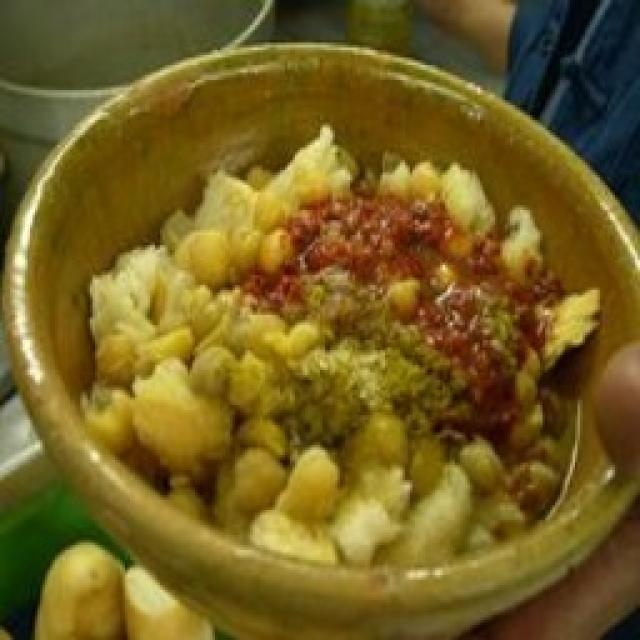Lablabi: (86, 126, 599, 566)
